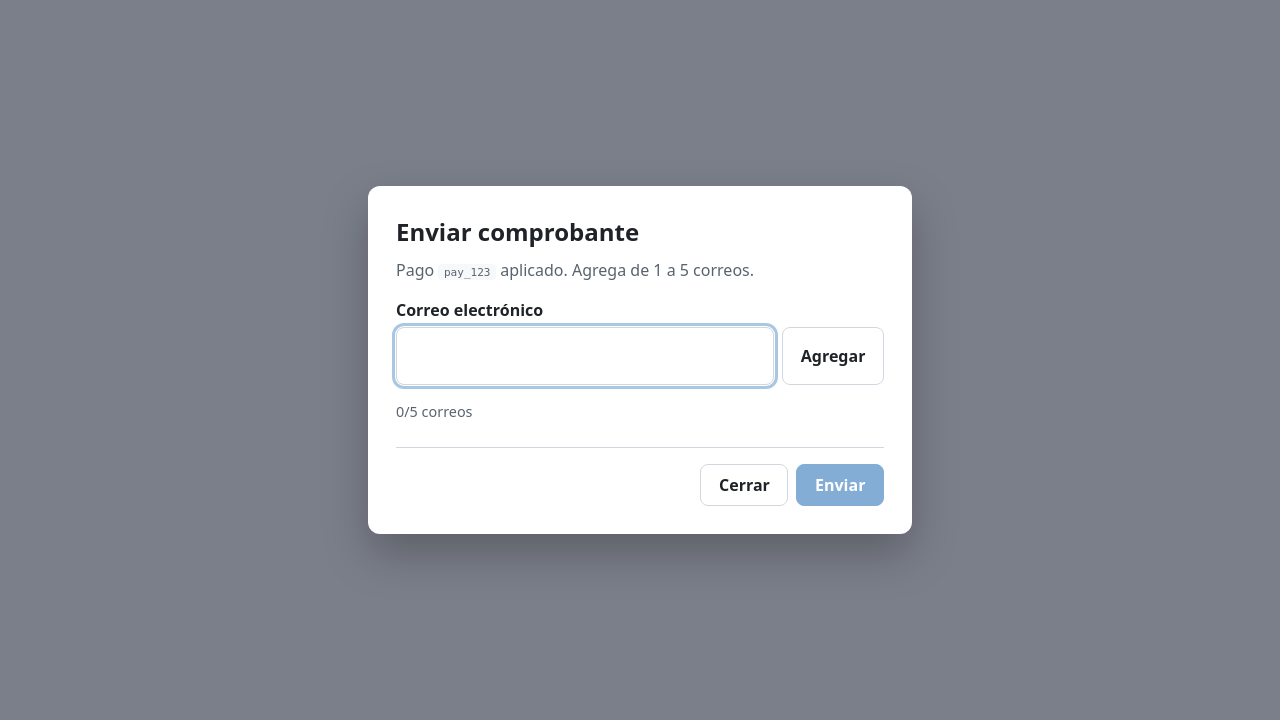
Test case: ReceiptModal: validación de correos › rechaza un correo con formato inválido
In the field labelled "Correo electrónico": (585, 356) [396, 328, 774, 386], type "correo-invalido"
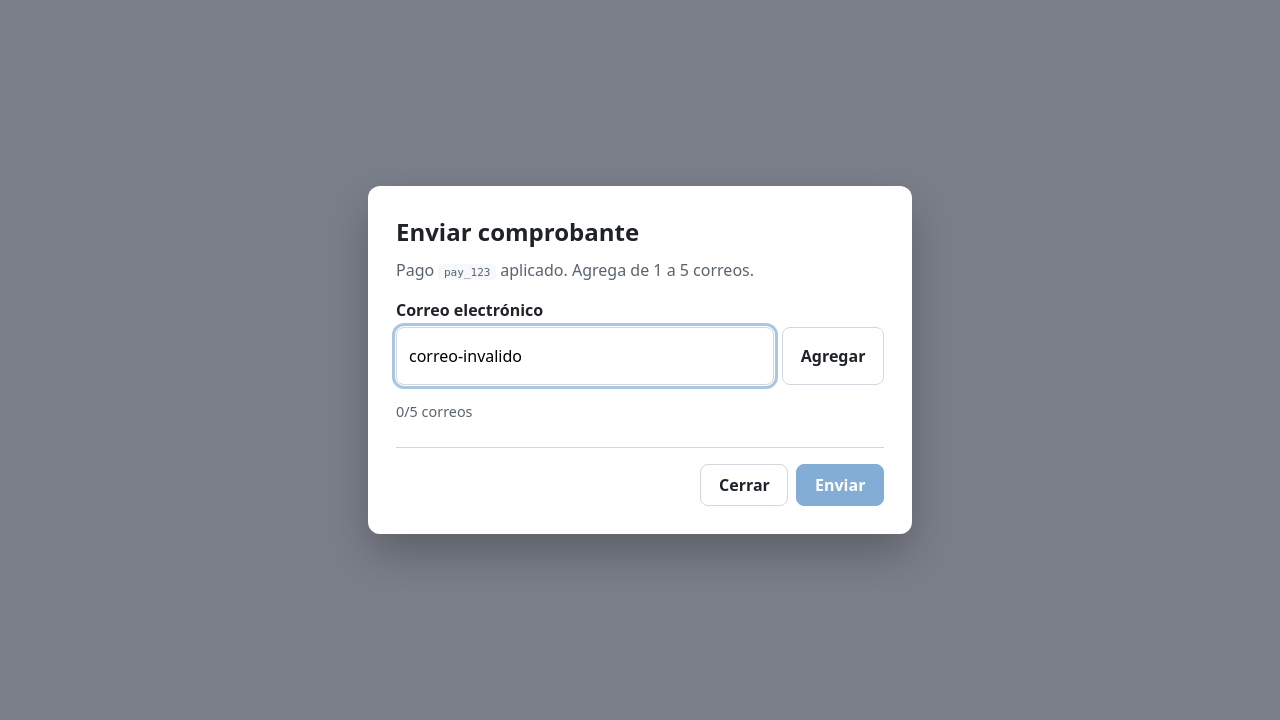
Click the button "Agregar": (833, 356) [782, 328, 884, 386]
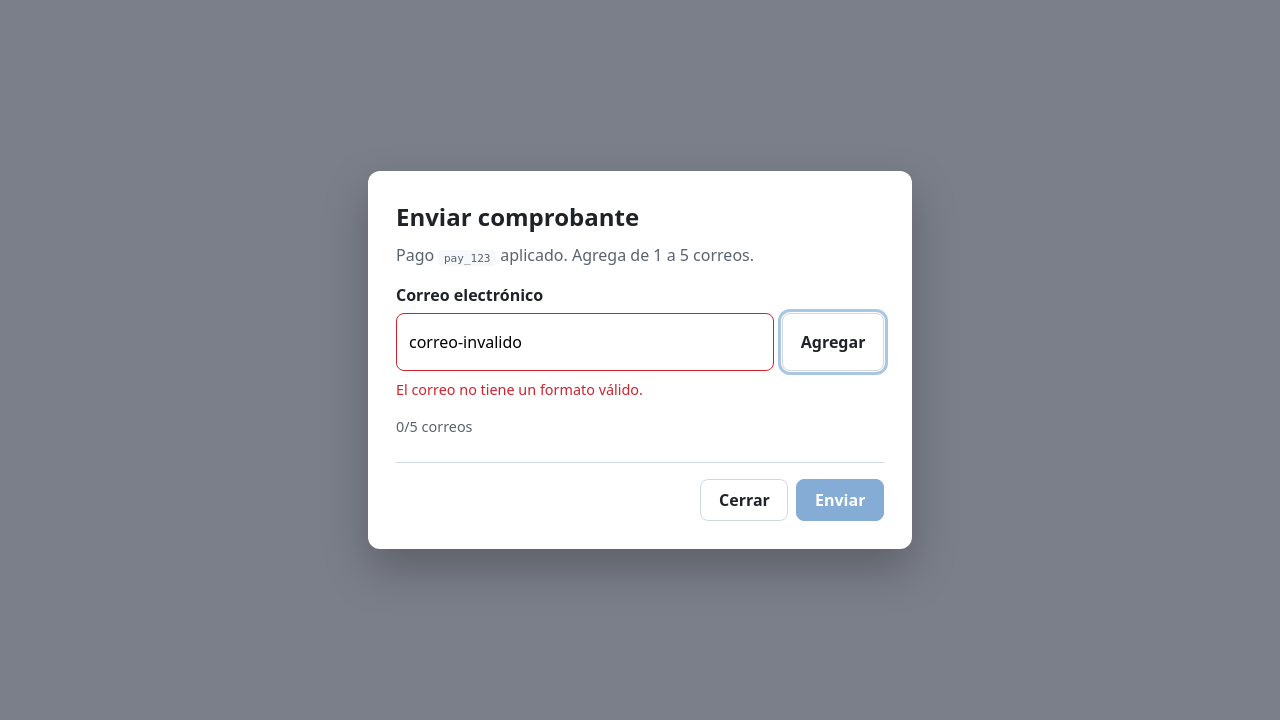
Expected: the button "Enviar" is disabled, [796, 479, 884, 521]
Expected: the message reads "El correo no tiene un formato válido.", [396, 380, 643, 399]
